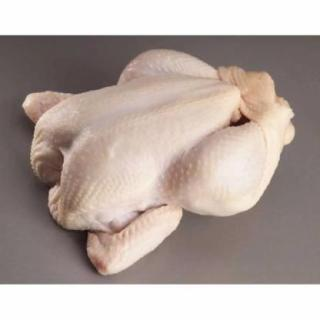Ayam: (23, 49, 298, 278)
